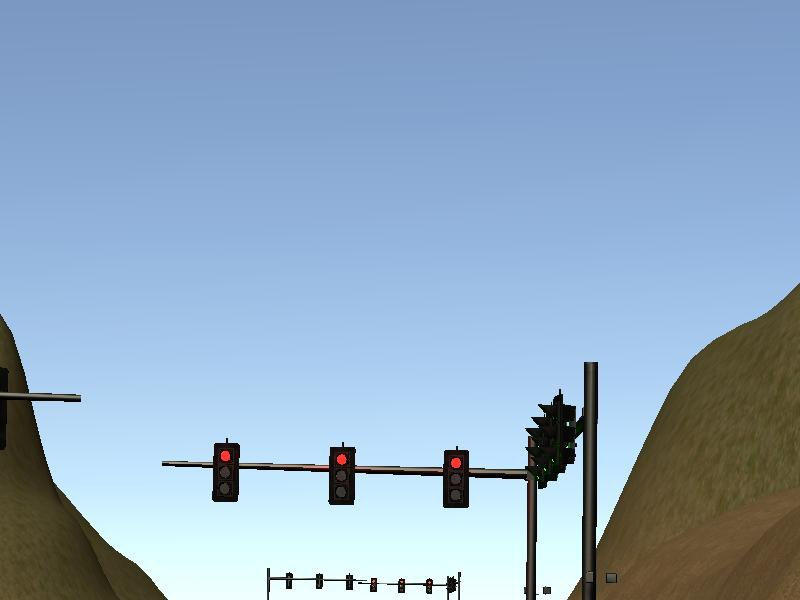Red: (210, 441, 240, 503), (442, 447, 470, 510), (327, 445, 355, 508)
